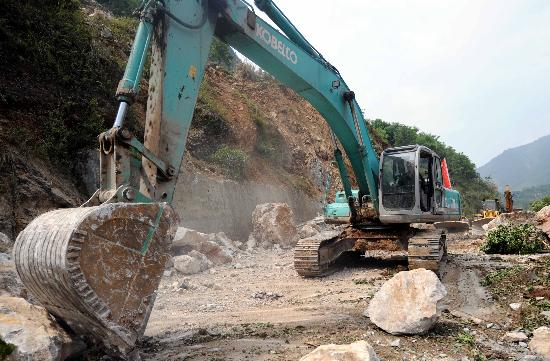excavator: (4, 3, 457, 353)
